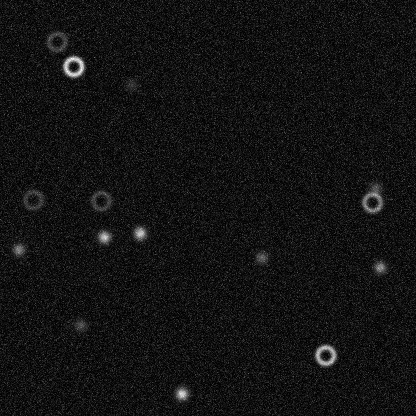Ring: (360, 190, 384, 214), (313, 343, 337, 367), (88, 188, 112, 212), (20, 187, 44, 211), (61, 54, 85, 78), (44, 29, 68, 53)
Spot: (253, 249, 269, 265), (96, 228, 112, 244), (10, 241, 26, 257), (72, 316, 88, 332), (131, 224, 147, 240), (123, 76, 139, 92), (367, 180, 383, 196), (173, 385, 189, 401), (372, 259, 388, 275)
